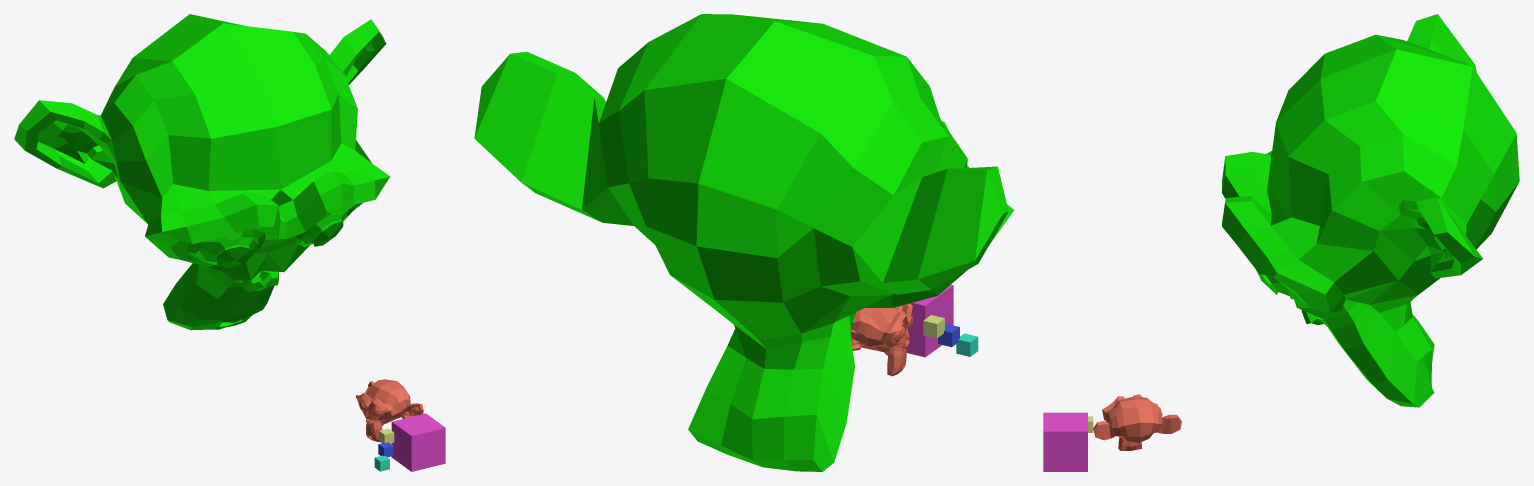
Rendered from baseTemplate.fbx.
3 renders of one model, left to right at view 1: azimuth 30°, elevation 25°; view 2: azimuth 150°, elevation 25°; view 3: azimuth 270°, elevation 25°, orthographic. The views are drawn at different scales.
Visible parts, largest first — view 1: Suzanne, Cube, Suzanne.001; view 2: Suzanne, Suzanne.001, Cube; view 3: Suzanne, Suzanne.001, Cube.
Part boxes in pixels (x1,y1,x2,y2): Suzanne: [14, 14, 390, 330]; Cube: [391, 413, 445, 471]; Suzanne.001: [356, 379, 423, 442]; Suzanne: [474, 14, 1014, 471]; Suzanne.001: [851, 303, 912, 376]; Cube: [906, 284, 953, 357]; Suzanne: [1222, 14, 1519, 407]; Suzanne.001: [1093, 394, 1181, 450]; Cube: [1043, 412, 1087, 471].
Size of what is drawn, in the model's own units: 1428 by 1284 by 1436.
